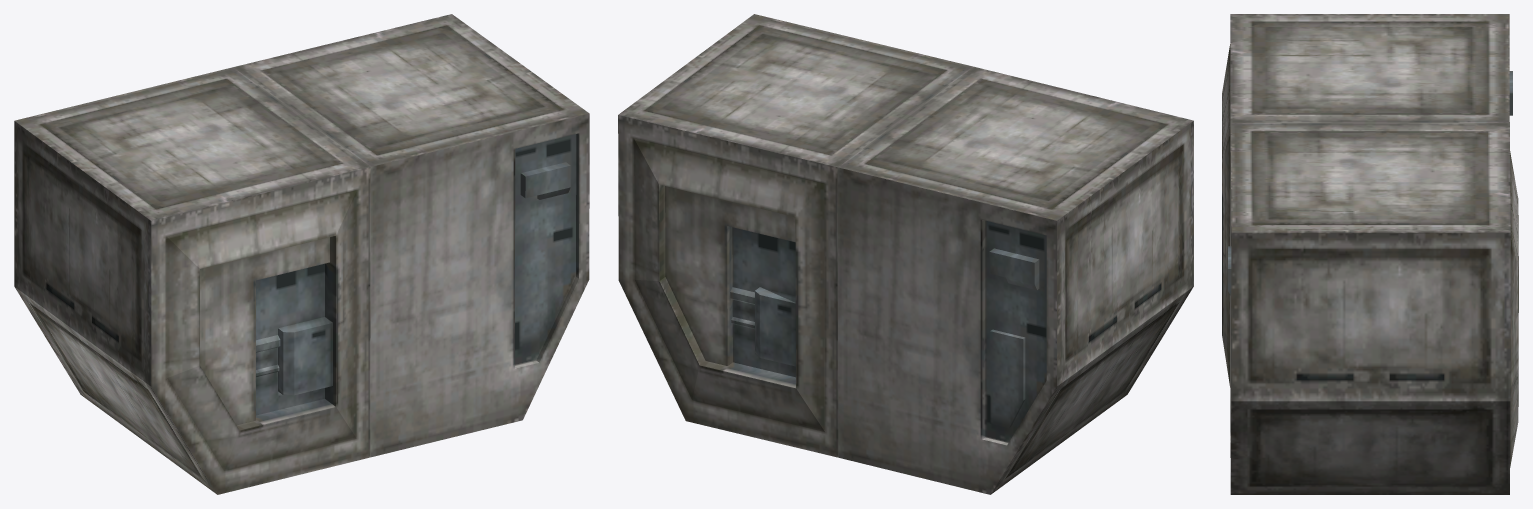
Rendered from cargo_freighter_crate_s01_l1.fbx.
3 renders of one model, left to right at view 1: azimuth 30°, elevation 25°; view 2: azimuth 150°, elevation 25°; view 3: azimuth 270°, elevation 25°, orthographic.
Visible parts, largest first — view 1: mesh_node; view 2: mesh_node; view 3: mesh_node.
Boxes of the visible parts, x1=… form: mesh_node: x1=14, y1=14, x2=589, y2=494; mesh_node: x1=618, y1=14, x2=1193, y2=494; mesh_node: x1=1222, y1=14, x2=1518, y2=494.
Size of the model in its own units: 23.33 by 14.77 by 13.4.
